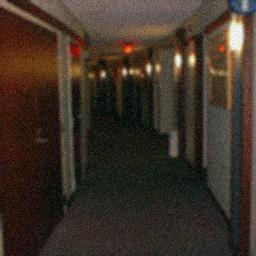Bote de Basura: (165, 129, 182, 158)
Puerta: (2, 10, 62, 253), (70, 43, 82, 186), (136, 68, 142, 124), (109, 73, 116, 110)
